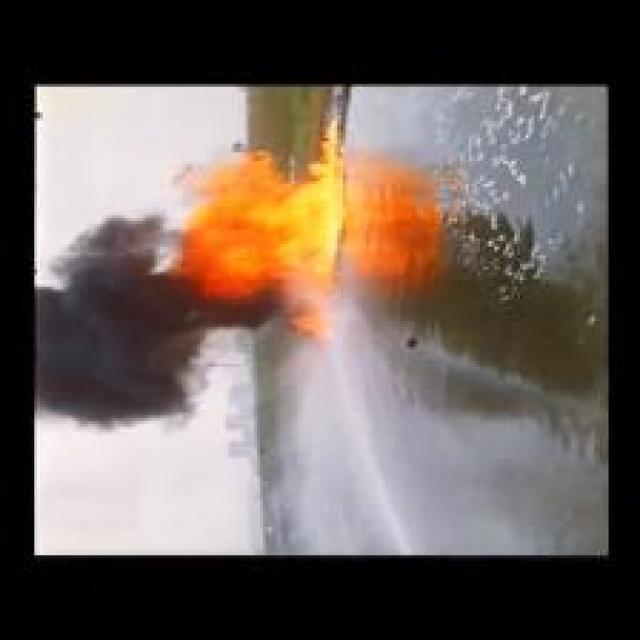Fire: (168, 120, 342, 334)
